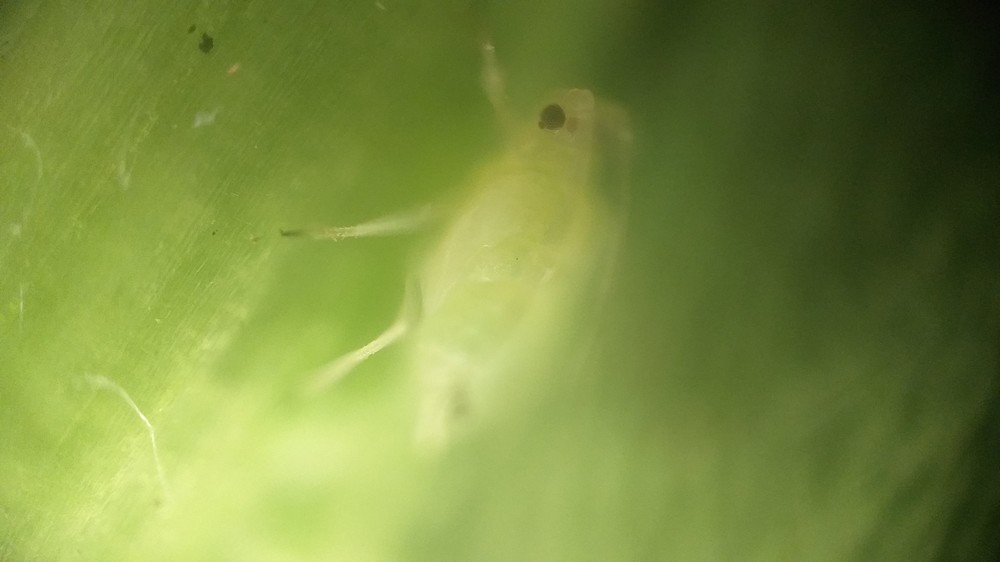Pulgon: (291, 24, 670, 511)
